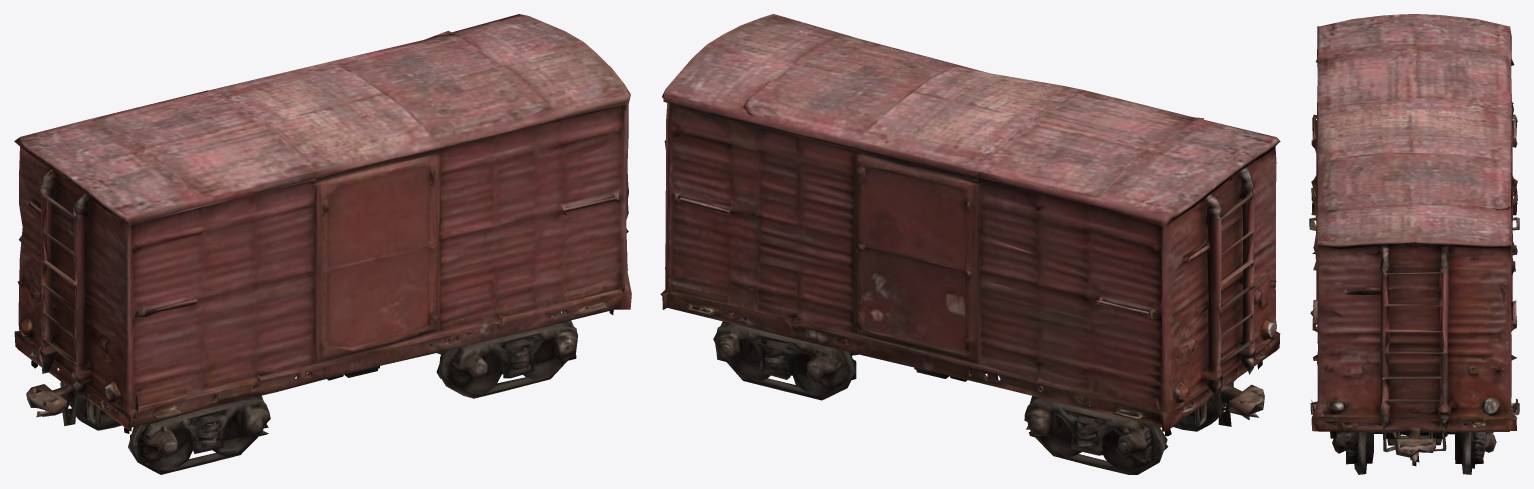
Rendered from rd_boxcar.glb.
3 renders of one model, left to right at view 1: azimuth 30°, elevation 25°; view 2: azimuth 150°, elevation 25°; view 3: azimuth 270°, elevation 25°, orthographic. The views are drawn at different scales.
Visible parts, largest first — view 1: tripo_node_8de6f1fb-39e1-4968-9037-ebcd29ccdda9; view 2: tripo_node_8de6f1fb-39e1-4968-9037-ebcd29ccdda9; view 3: tripo_node_8de6f1fb-39e1-4968-9037-ebcd29ccdda9.
Part boxes in pixels (left/top/right/bottom): tripo_node_8de6f1fb-39e1-4968-9037-ebcd29ccdda9: left=14, top=14, right=631, bottom=474; tripo_node_8de6f1fb-39e1-4968-9037-ebcd29ccdda9: left=660, top=14, right=1280, bottom=474; tripo_node_8de6f1fb-39e1-4968-9037-ebcd29ccdda9: left=1309, top=14, right=1519, bottom=474.
Bounding box in the file's own units: 0.9807 × 0.4773 × 0.3445.
Materials: 1 (1 with a texture image).
